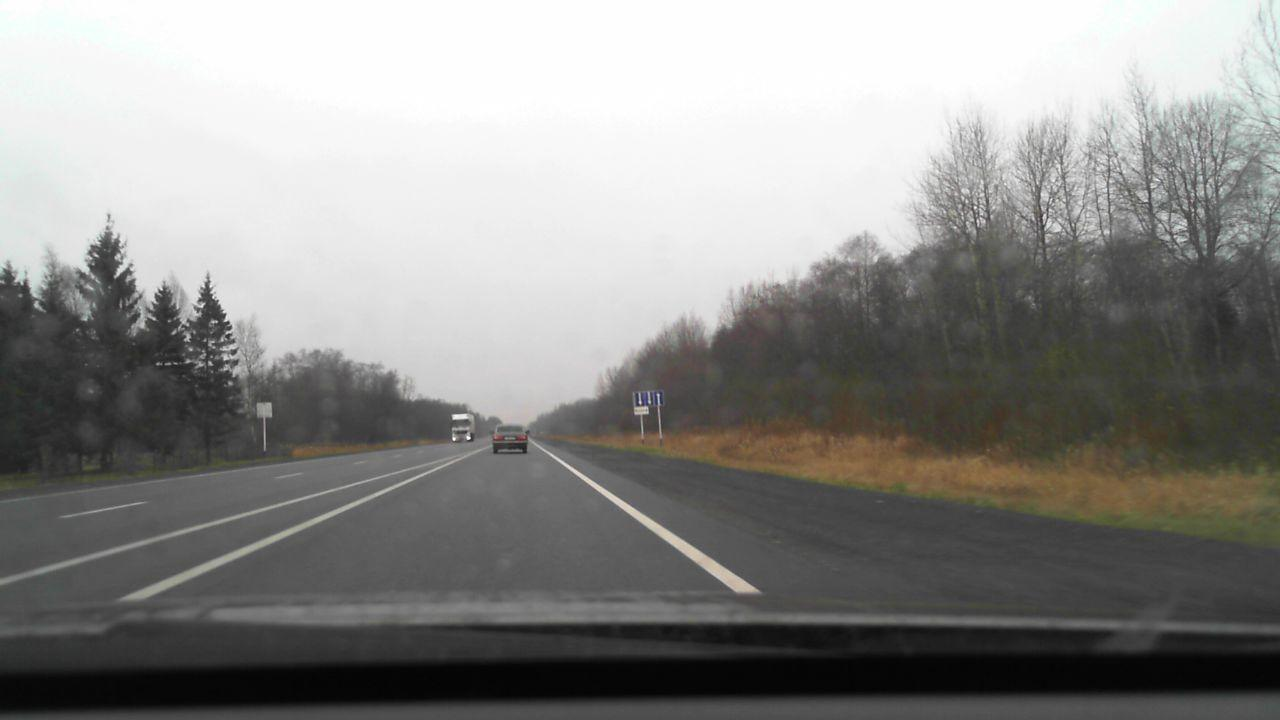5_15_7: (632, 389, 665, 407)
8_2_1: (632, 407, 649, 415)
